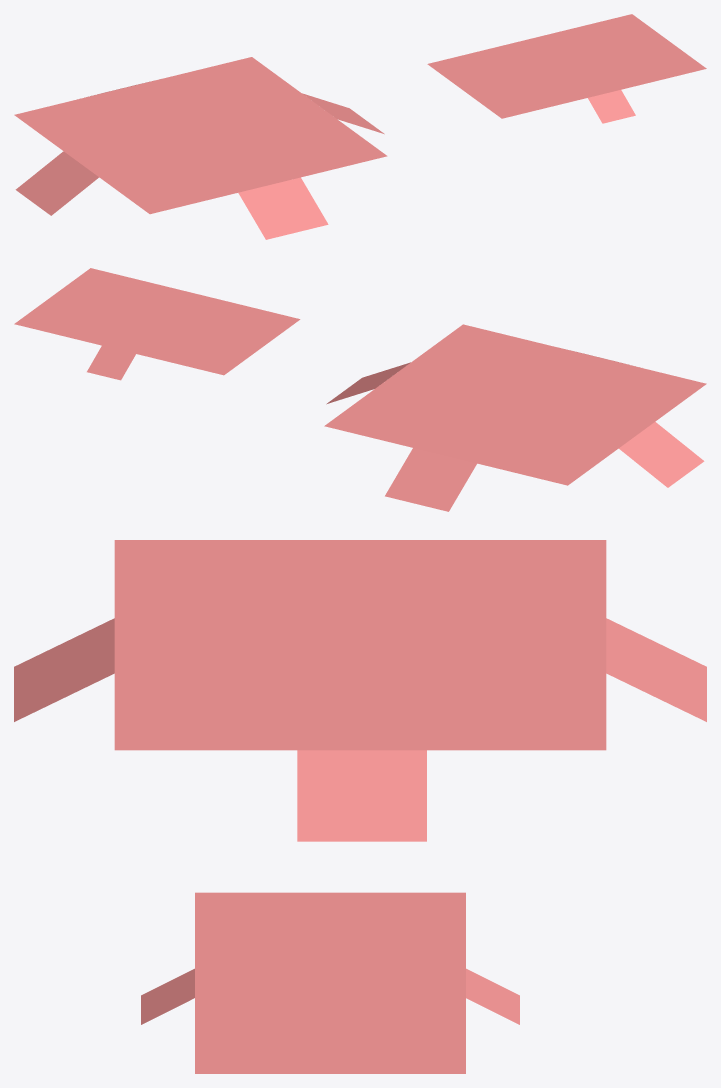
The model's file is Collider.FBX.
3 views of the same model, one above another, from view 1: azimuth 30°, elevation 25°; view 2: azimuth 150°, elevation 25°; view 3: azimuth 270°, elevation 25° (orthographic). The views are drawn at different scales.
Visible parts, largest first — view 1: c, Object001; view 2: c, Object001; view 3: c, Object001.
Part boxes in pixels (x1,y1,x2,y2): c: (14,57,387,239); Object001: (427,14,706,123); c: (324,324,706,511); Object001: (14,268,300,380); c: (14,540,706,841); Object001: (141,892,519,1073).
Size of the model in its own units: 120 by 4.92 by 63.12.
